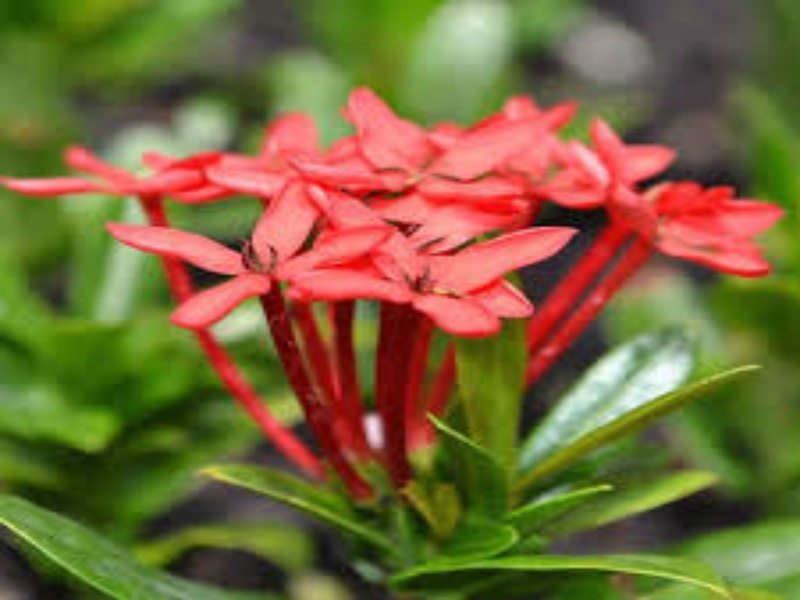Ixora: (1, 70, 799, 352)
